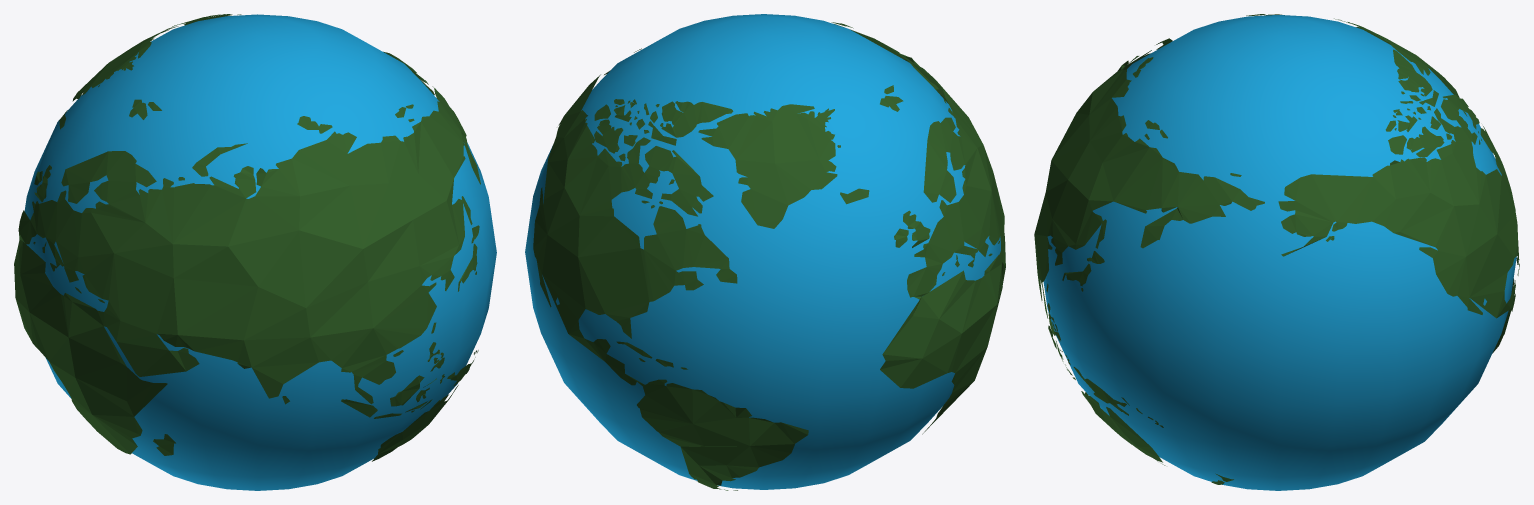
Rendered from paper_globe.glb.
3 renders of one model, left to right at view 1: azimuth 30°, elevation 25°; view 2: azimuth 150°, elevation 25°; view 3: azimuth 270°, elevation 25°, orthographic.
Visible parts, largest first — view 1: Path_89_2, Base, Path_83, Path_70_2; view 2: Base, Path_81, Path_89_2, Path_83, Path_4, Path_12; view 3: Base, Path_81, Path_89_2, Path_70_2, Path_4, Path_83, Path_12.
Boxes of the visible parts, x1,y1,x2,y2 form: Path_89_2: [14, 86, 480, 454]; Base: [24, 14, 496, 490]; Path_83: [72, 26, 178, 101]; Path_70_2: [372, 385, 458, 461]; Base: [525, 14, 1000, 489]; Path_81: [533, 74, 808, 490]; Path_89_2: [604, 24, 1005, 434]; Path_83: [698, 104, 837, 228]; Path_4: [661, 101, 733, 137]; Path_12: [594, 119, 623, 153]; Base: [1043, 15, 1516, 490]; Path_81: [1278, 94, 1519, 353]; Path_89_2: [1034, 50, 1264, 318]; Path_70_2: [1081, 391, 1162, 462]; Path_4: [1393, 49, 1432, 96]; Path_83: [1334, 18, 1459, 97]; Path_12: [1406, 126, 1444, 157].
Bounding box in the file's own units: 402 × 396 × 402.
